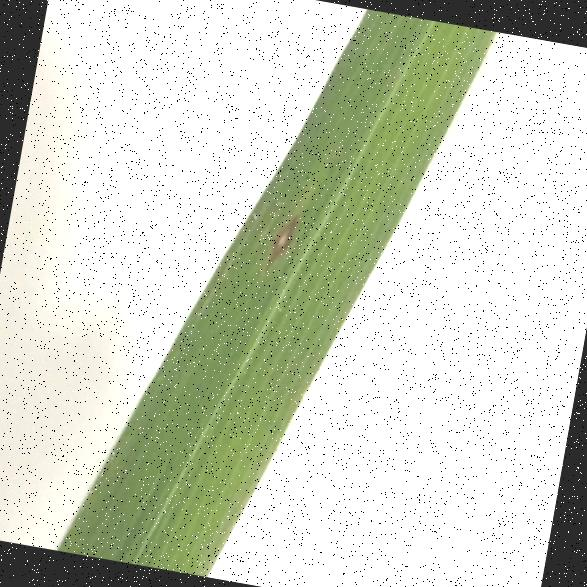Leaf_smut: (256, 174, 311, 284)
